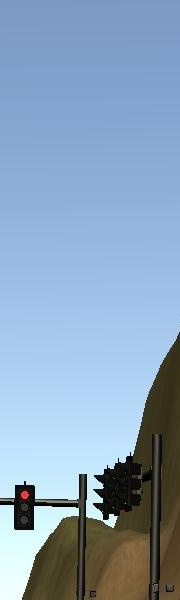Red: (13, 484, 36, 531)
